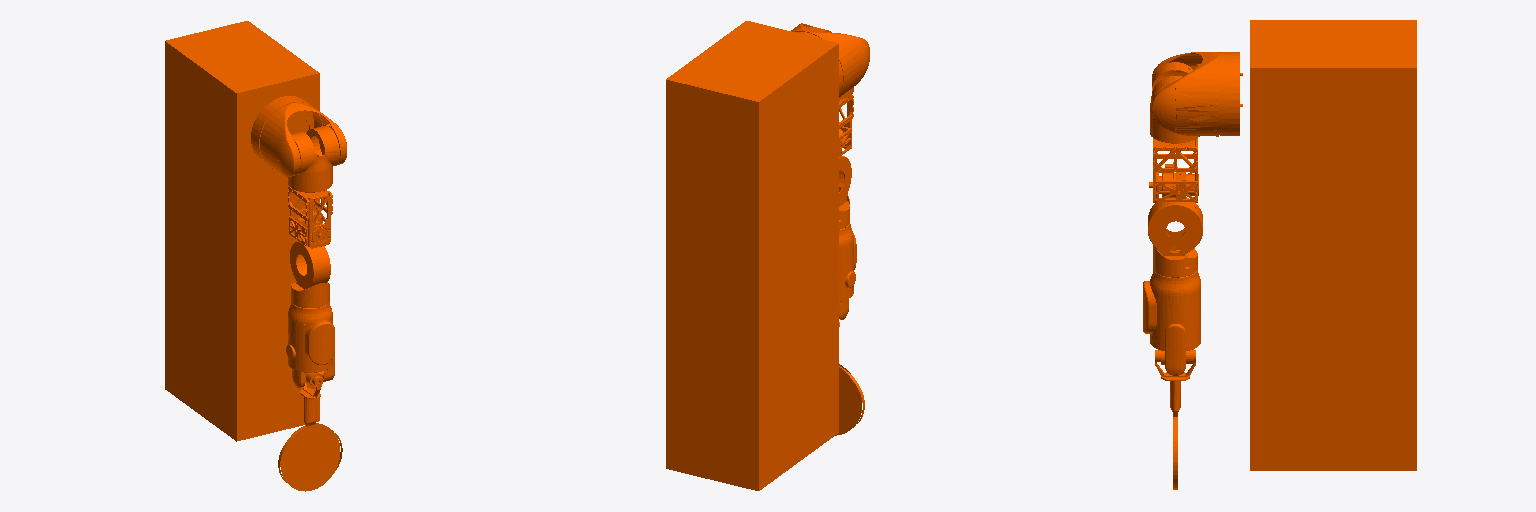
The robot description file, URDF, robot "WuKong":
<?xml version="1.0"?>
<robot name="WuKong">
	<link name="body">
		<visual>
			<geometry>
				<box size="0.2 0.3 0.8"/>
			</geometry>
			<material name="abb_orange">
				<color rgba="1 0.43 0 1"/>
		      	</material>
			<origin xyz="0 0 0.4" />
		</visual>
	</link>

	<joint name="ShoulderPitch" type="revolute">
		<parent link="body" />
		<child link="Shoulder" />
		<limit effort="120.0" lower="-2.2" upper="1.5708" velocity="13.0"/>
		<axis xyz="0 1 0"/>
		<origin xyz="0 -0.15 0.7"/>
	</joint>

	<link name="Shoulder">
 		<visual>
		      <geometry>
				<mesh filename="package://wukong/meshes/Shoulder.STL" />
		      </geometry>
		      <material name="abb_orange" />
		      <origin rpy="0 0 0" xyz="0 -0.018 0"/>
    		</visual>
	</link>

	<joint name="ShoulderRoll" type="revolute">
		<parent link="Shoulder" />
		<child link="UpperArm1" />
		<limit effort="150.0" lower="-2.3213" upper="0.2618" velocity="18.0"/>
		<axis xyz="1 0 0"/>
		<origin xyz="0 -0.13395 0"/>
	</joint>

	<link name="UpperArm1">
		<visual>
		      <geometry>
				<mesh filename="package://wukong/meshes/UpperArm1.STL" />
		      </geometry>
		      <material name="abb_orange" />
			<origin rpy="0 0 0" xyz="0 0 0"/>
    		</visual>
	</link>
	
	<joint name="ShoulderYaw" type="revolute">
		<parent link="UpperArm1" />
		<child link="UpperArm2" />
		<limit effort="200.0" lower="-3.1416" upper="1.5708" velocity="12.0"/>
		<axis xyz="0 0 1"/>
		<origin xyz="0 0 -0.076"/>
	</joint>

	<link name="UpperArm2">
		<visual>
		      <geometry>
				<mesh filename="package://wukong/meshes/UpperArm2.STL" />
		      </geometry>
		      <material name="abb_orange" />
			<origin rpy="0 0 0" xyz="0 0 0"/>
    		</visual>
	</link>

	<joint name="ElbowRoll" type="revolute">
		<parent link="UpperArm2" />
		<child link="LowerArm1" />
		<limit effort="100.0" lower="-1.0472" upper="2.0944" velocity="20.0"/>
		<axis xyz="1 0 0"/>
		<origin xyz="0 0 -0.183"/>
	</joint>
	
	<link name="LowerArm1">
		<visual>
			<geometry>
				<mesh filename="package://wukong/meshes/LowerArm1.STL" />
			</geometry>
			<material name="abb_orange" />
			<origin rpy="0 0 0" xyz="0 0 0"/>
    		</visual>
	</link>

	<joint name="ElbowYaw" type="revolute">
		<parent link="LowerArm1" />
		<child link="LowerArm2" />
		<limit effort="80.0" lower="-3.1416" upper="3.1416" velocity="11.0"/>
		<axis xyz="0 0 1"/>
		<origin xyz="0 0 -0.086"/>
	</joint>

	<link name="LowerArm2">
		<visual>
		      <geometry>
				  <mesh filename="package://wukong/meshes/LowerArm2.STL" />
		      </geometry>
		      <material name="abb_orange" />
			<origin rpy="0 0 0" xyz="0 0 0"/>
    		</visual>
	</link>
	
	<joint name="WristRoll" type="revolute">
		<parent link="LowerArm2" />
		<child link="LowerArm3" />
		<limit effort="150.0" lower="-1.3962" upper="1.3962" velocity="10.0"/>
		<axis xyz="1 0 0"/>
		<origin xyz="0 0 -0.173"/>
	</joint>

	<link name="LowerArm3">
		<visual>
		      <geometry>
				<mesh filename="package://wukong/meshes/LowerArm3.STL" />
		      </geometry>
		      <material name="abb_orange" />
			  <origin rpy="0 0 0" xyz="0 0 0"/>
    		</visual>
	</link>

	<joint name="WristPitch" type="revolute">
		<parent link="LowerArm3" />
		<child link="Racket" />
		<limit effort="30.0" lower="-0.7330" upper="1.4822" velocity="4.5"/>
		<axis xyz="0 1 0"/>
		<origin xyz="0 0 0"/>
	</joint>

	<link name="Racket">
		<visual>
		      <geometry>
				<mesh filename="package://wukong/meshes/Racket.STL" />
		      </geometry>
		     <material name="abb_orange" />
			<origin rpy="0 0 0" xyz="0 0.0341 0"/>
    		</visual>
	</link>

</robot>

--- Render facts (derived) ---
The picture shows the robot from 3 angles, left to right: view 1: azimuth 30°, elevation 25°; view 2: azimuth 150°, elevation 25°; view 3: azimuth 270°, elevation 25°; orthographic projection.
Model WuKong with 8 links and 7 joints (7 revolute), rooted at body, posed every joint at zero.
Visible links, largest first — view 1: body, Racket, Shoulder, LowerArm2, UpperArm1, LowerArm1, UpperArm2; view 2: body, Shoulder, LowerArm2, Racket, LowerArm1, UpperArm2; view 3: body, Shoulder, LowerArm2, LowerArm1, UpperArm2, UpperArm1, Racket.
Boxes of the visible links, x1,y1,x2,y2 form: body: (165,21,319,441); Racket: (278,377,342,491); Shoulder: (251,96,346,177); LowerArm2: (286,301,334,387); UpperArm1: (288,126,339,192); LowerArm1: (290,241,330,307); UpperArm2: (288,187,332,248); body: (666,21,838,490); Shoulder: (791,23,869,97); LowerArm2: (839,224,856,319); Racket: (835,322,864,435); LowerArm1: (839,156,851,229); UpperArm2: (839,95,853,156); body: (1250,20,1416,470); Shoulder: (1152,52,1242,136); LowerArm2: (1143,269,1200,375); LowerArm1: (1148,197,1202,277); UpperArm2: (1149,138,1198,202); UpperArm1: (1150,62,1199,143); Racket: (1155,350,1195,489).
Bounding box of the posed robot: 0.2 × 0.4924 × 0.8804 m (x, y, z).
Meshes: 7 distinct files referenced, 7 mesh visuals loaded (7 binary STL).
